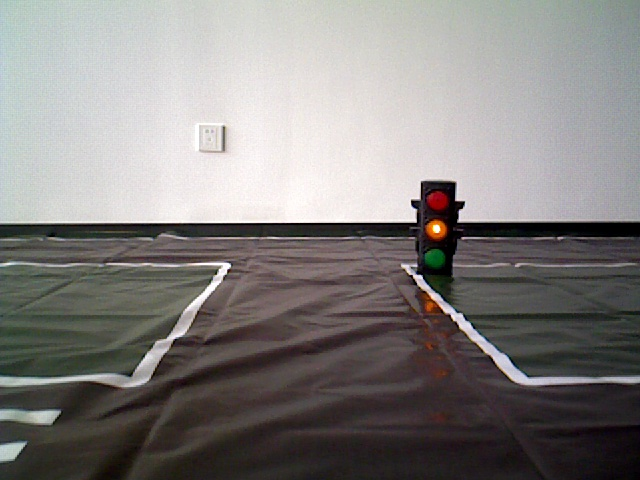yellow: (420, 181, 455, 274)
